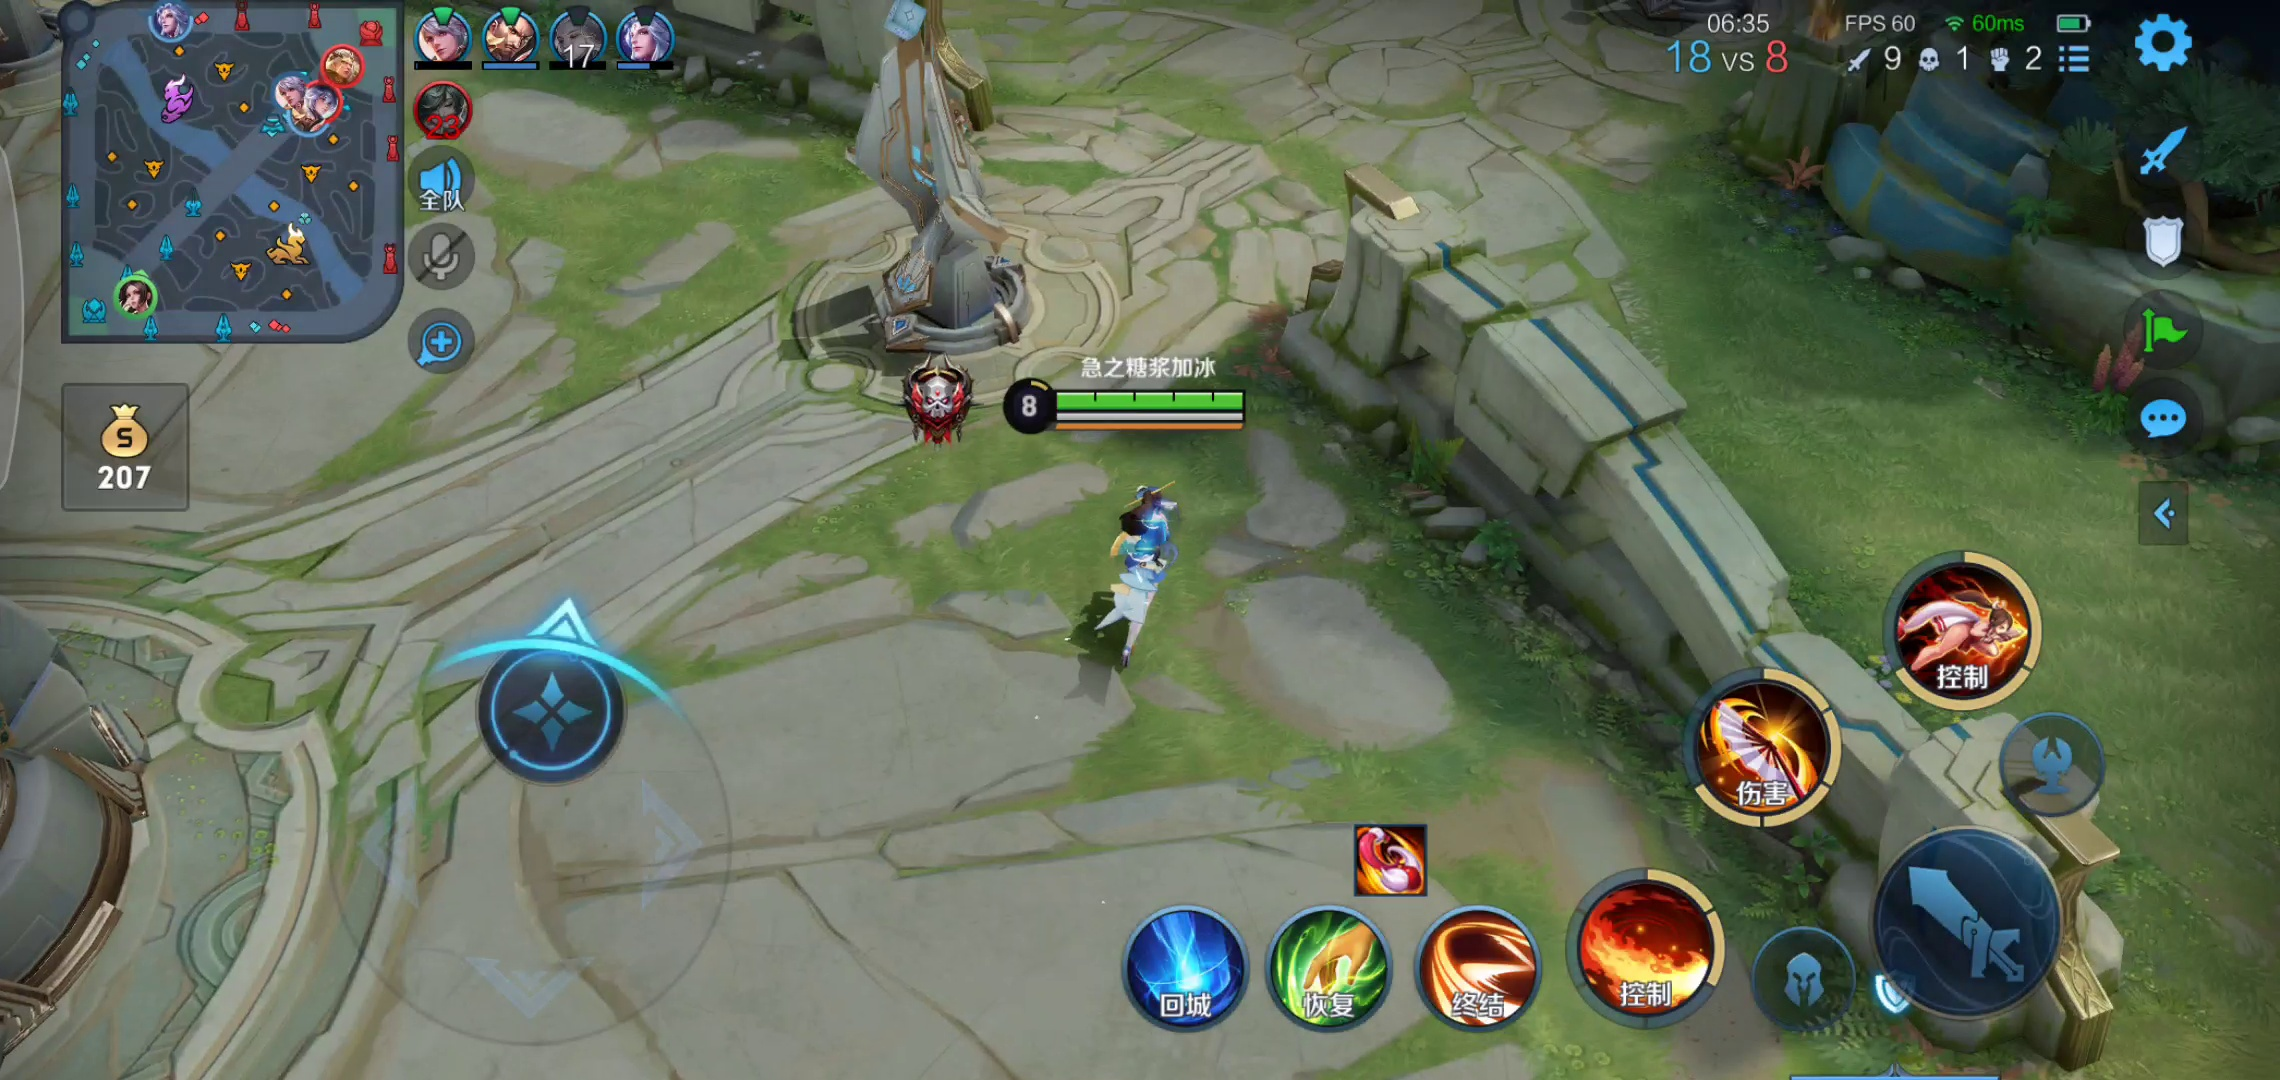hero: (1060, 474, 1189, 679)
tower: (810, 1, 1050, 359)
